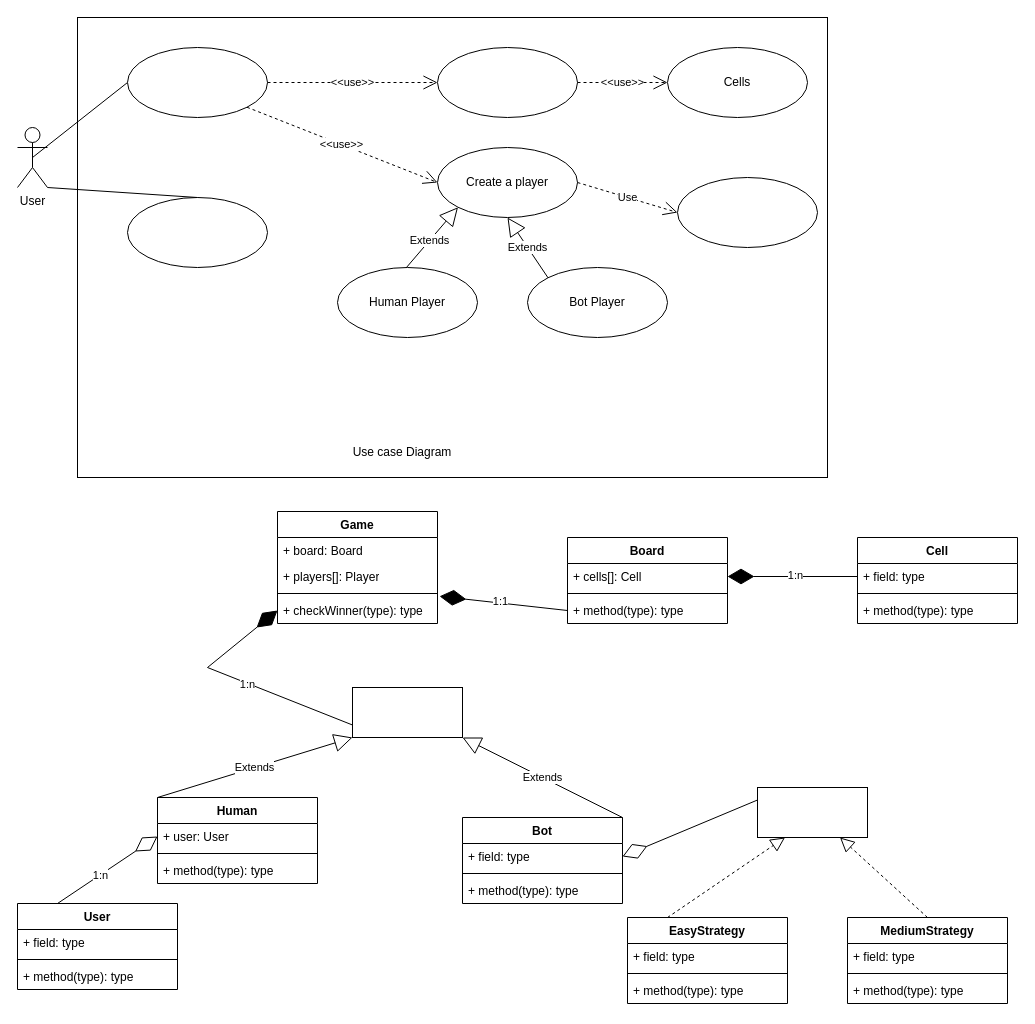
Some shapes in this 1035 by 1024 pixel diagram are drawn without their labels. The shapes that lost their labels are listed below. From the top down, each one's centre as x and y in pixels, then its label:
At [197,82]: "Create a Game".
At [507,82]: "Create a board".
At [197,232]: "Make a move".
At [747,212]: "Symbols".
At [407,712]: "«Player» symbol : Symbol makeMove()".
At [812,812]: "«PlayingStrategy» makeMove()".
